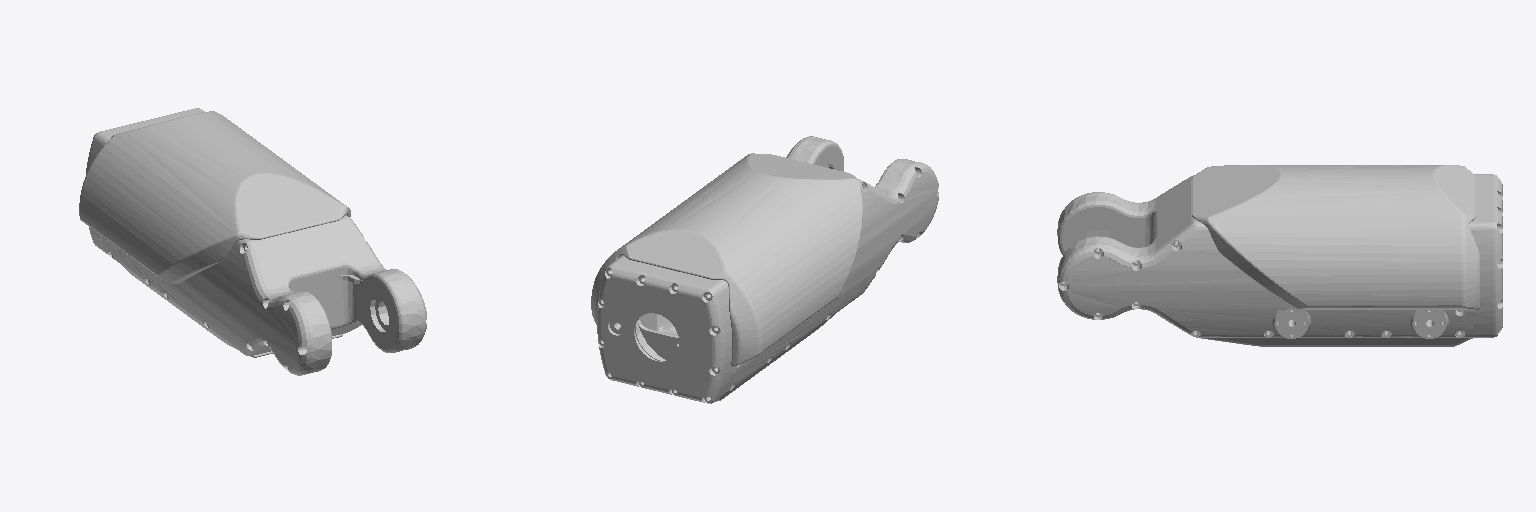
File: lowerArm_left.obj
3 views of the same model, side by side, from view 1: azimuth 30°, elevation 25°; view 2: azimuth 150°, elevation 25°; view 3: azimuth 270°, elevation 25° (orthographic).
Parts seen in each view (by area): view 1: wrist_right_float1, wrist_right_wrist_right.003; view 2: wrist_right_float1, wrist_right_wrist_right.003; view 3: wrist_right_float1, wrist_right_wrist_right.003, wrist_right_float2.
Boxes of the visible parts, box(x1,y1,x2,y2) form: wrist_right_float1: box(79, 111, 350, 283); wrist_right_wrist_right.003: box(86, 108, 426, 375); wrist_right_float1: box(591, 153, 862, 366); wrist_right_wrist_right.003: box(597, 136, 938, 403); wrist_right_float1: box(1192, 165, 1479, 309); wrist_right_wrist_right.003: box(1057, 174, 1502, 338); wrist_right_float2: box(1201, 338, 1472, 346).
Size of the model in its own units: 0.124 by 0.1135 by 0.2808.